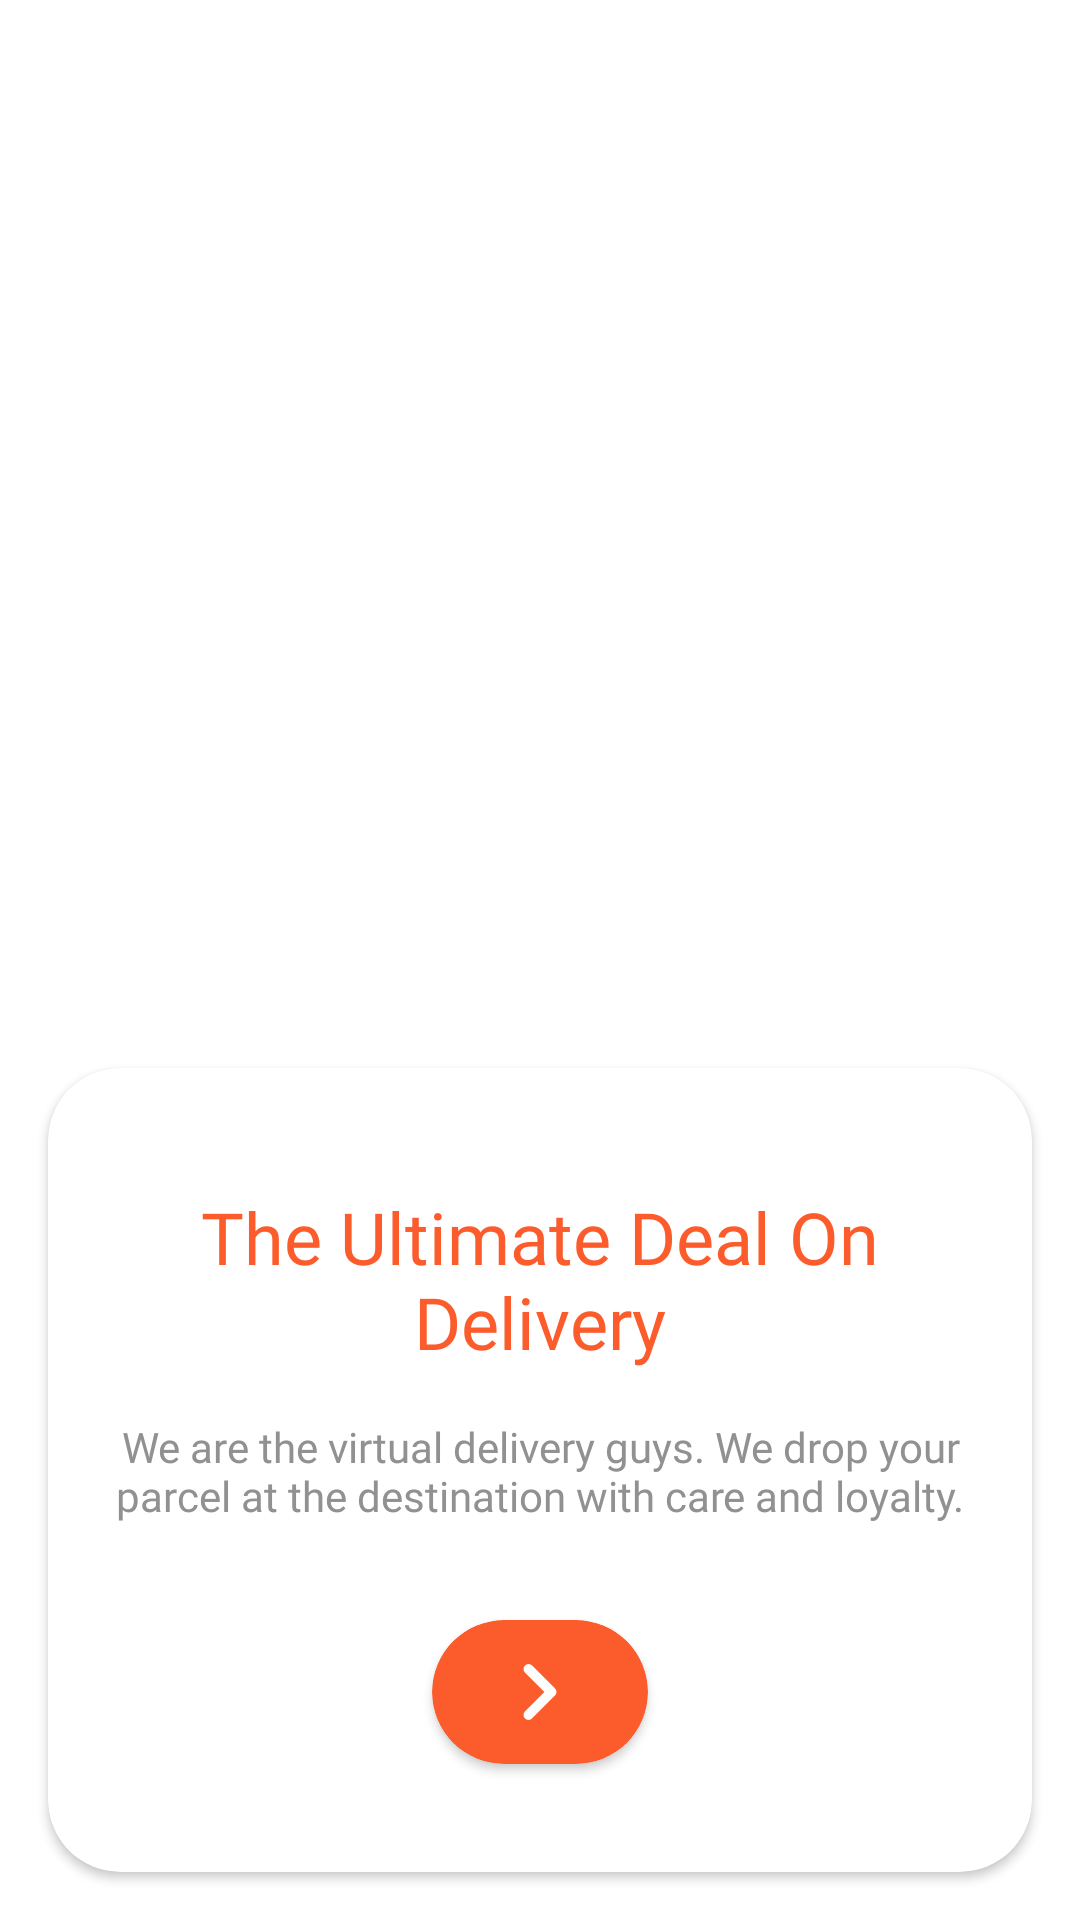

Locate icon controls on the screen. Image size 1080px×1920px, boxes as (x1, y1, x2, y2).
arrow right: (523, 1664, 557, 1720)
